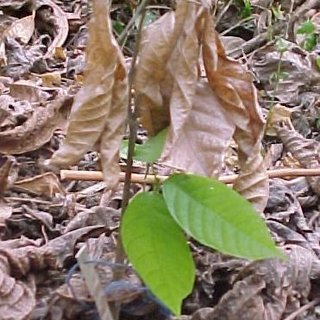mal de hilachas: (77, 1, 266, 174)
